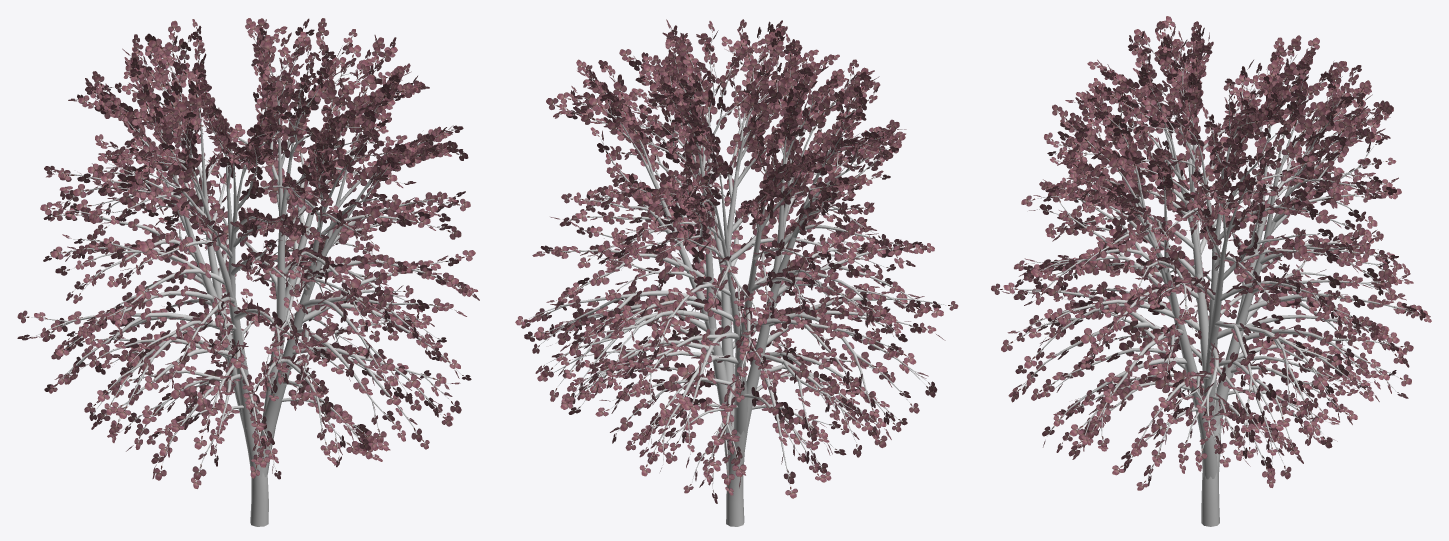
Rendered from Amazonie_Arbre_28.fbx.
The picture shows the model from 3 angles, left to right: view 1: azimuth 30°, elevation 25°; view 2: azimuth 150°, elevation 25°; view 3: azimuth 270°, elevation 25°; orthographic projection. The views are drawn at different scales.
Parts seen in each view (by area): view 1: Plane.001, tree; view 2: Plane.001, tree; view 3: Plane.001, tree.
Part boxes in pixels (x1=…): Plane.001: x1=17, y1=18, x2=479, y2=488; tree: x1=31, y1=30, x2=468, y2=526; Plane.001: x1=515, y1=19, x2=958, y2=503; tree: x1=527, y1=33, x2=946, y2=526; Plane.001: x1=991, y1=16, x2=1431, y2=490; tree: x1=1003, y1=30, x2=1420, y2=526.
Size of the model in its own units: 968 by 1161 by 983.
